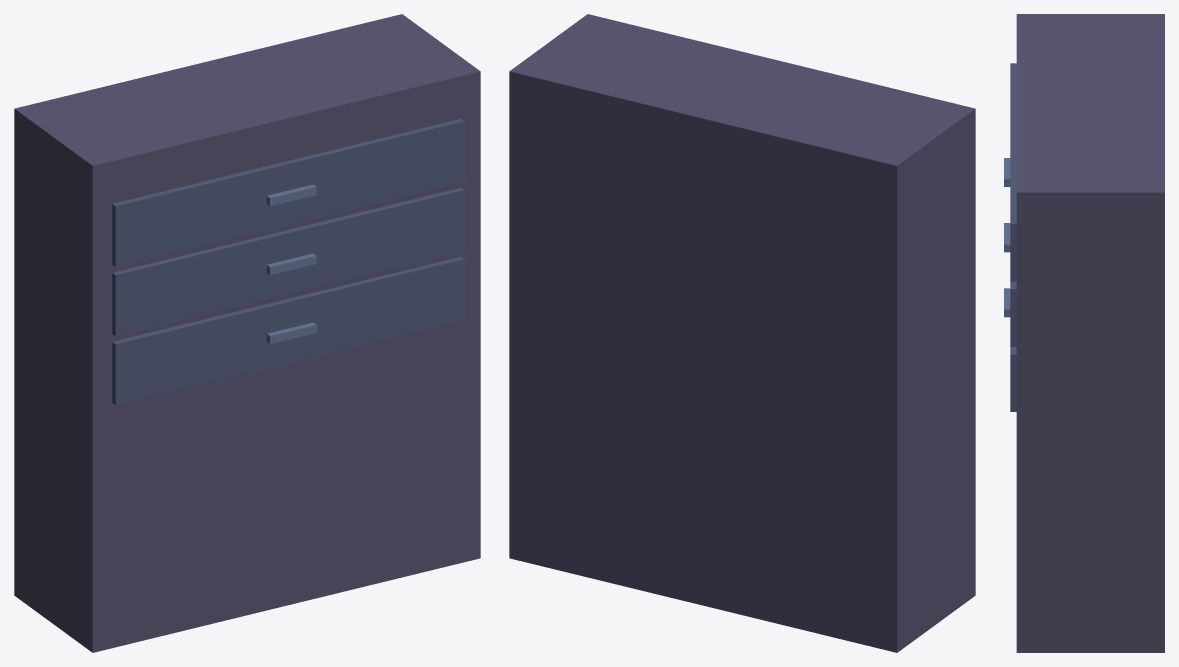
Rendered from FileShelf.fbx.
3 renders of one model, left to right at view 1: azimuth 30°, elevation 25°; view 2: azimuth 150°, elevation 25°; view 3: azimuth 270°, elevation 25°, orthographic. The views are drawn at different scales.
Parts seen in each view (by area): view 1: FileShelf; view 2: FileShelf; view 3: FileShelf.
Part boxes in pixels (x1,y1,x2,y2): FileShelf: [14, 14, 480, 652]; FileShelf: [509, 14, 975, 652]; FileShelf: [1004, 14, 1164, 652].
Size of the model in its own units: 1 by 1.2 by 0.38.
